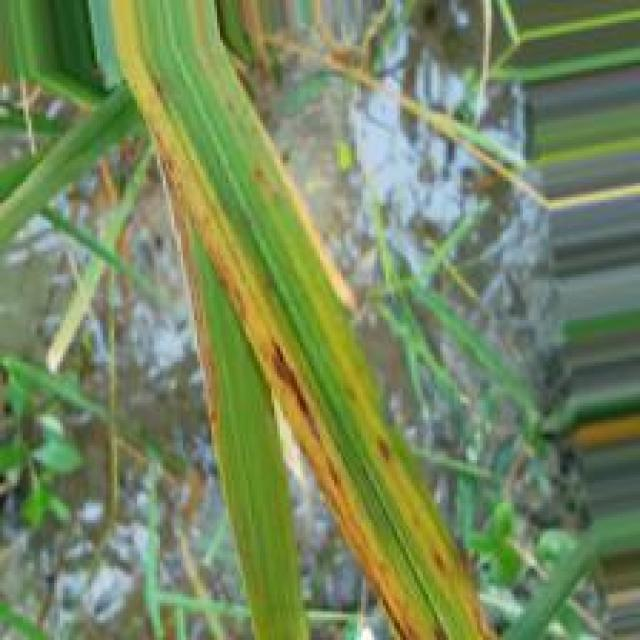Narrow_Brown_Leaf_Spot: (141, 110, 435, 640)
